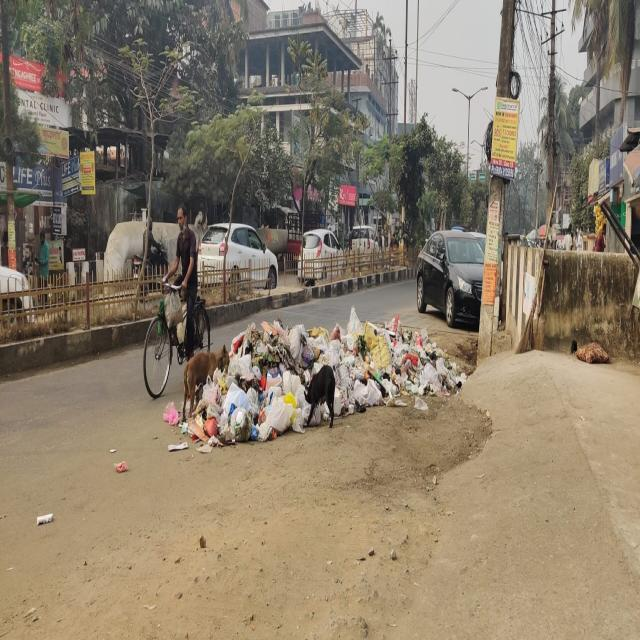garbage: (170, 315, 479, 492)
